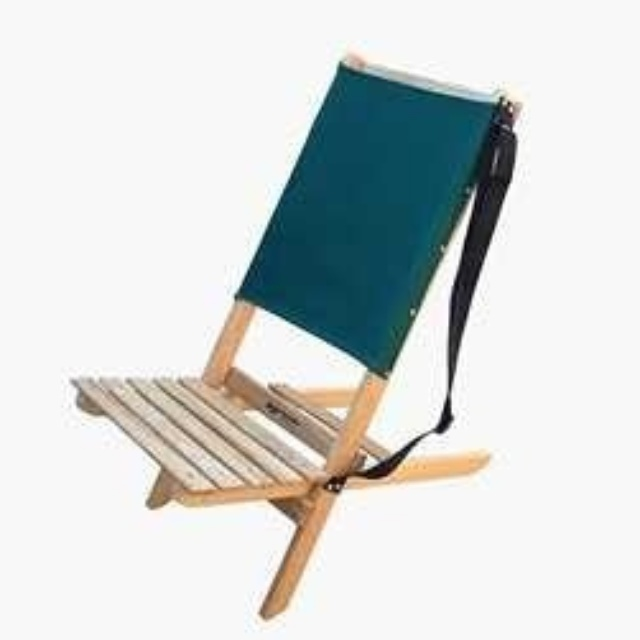obstacle: (74, 56, 515, 617)
